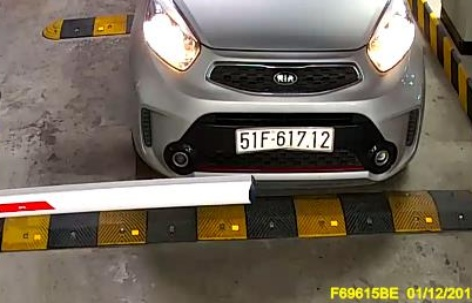plate: (235, 122, 335, 155)
